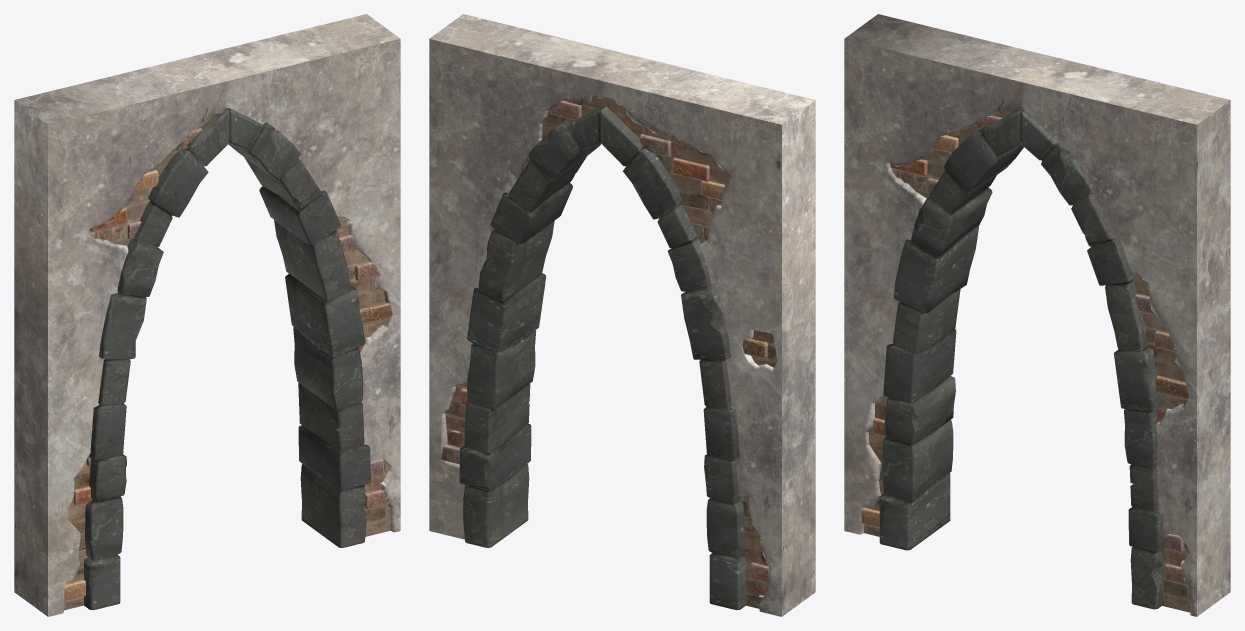
The picture shows the model from 3 angles, left to right: view 1: azimuth 30°, elevation 25°; view 2: azimuth 150°, elevation 25°; view 3: azimuth 330°, elevation 25°; orthographic projection.
Visible parts, largest first — view 1: SM_Human_Ruins_Arch_02v2_LOD0; view 2: SM_Human_Ruins_Arch_02v2_LOD0; view 3: SM_Human_Ruins_Arch_02v2_LOD0.
Boxes of the visible parts, x1,y1,x2,y2 form: SM_Human_Ruins_Arch_02v2_LOD0: [14, 14, 400, 616]; SM_Human_Ruins_Arch_02v2_LOD0: [429, 14, 815, 616]; SM_Human_Ruins_Arch_02v2_LOD0: [844, 14, 1230, 616].
Size of the model in its own units: 3 by 4 by 0.6301.
4 materials, 4 textured.
